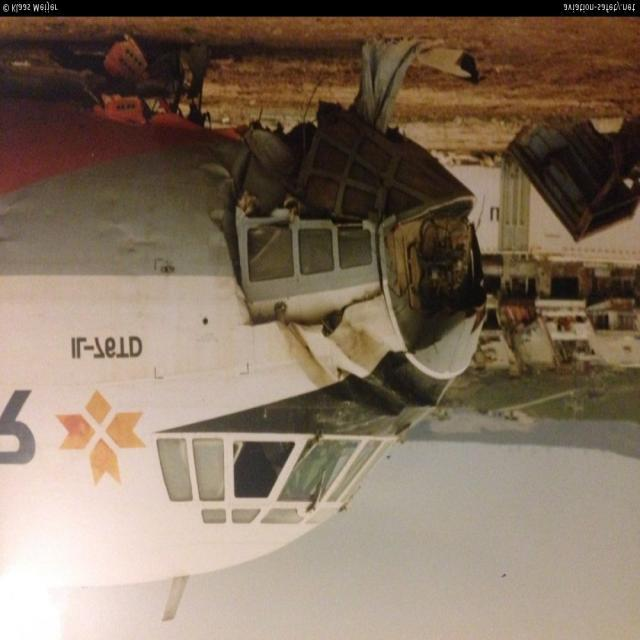dent: (203, 164, 236, 229)
